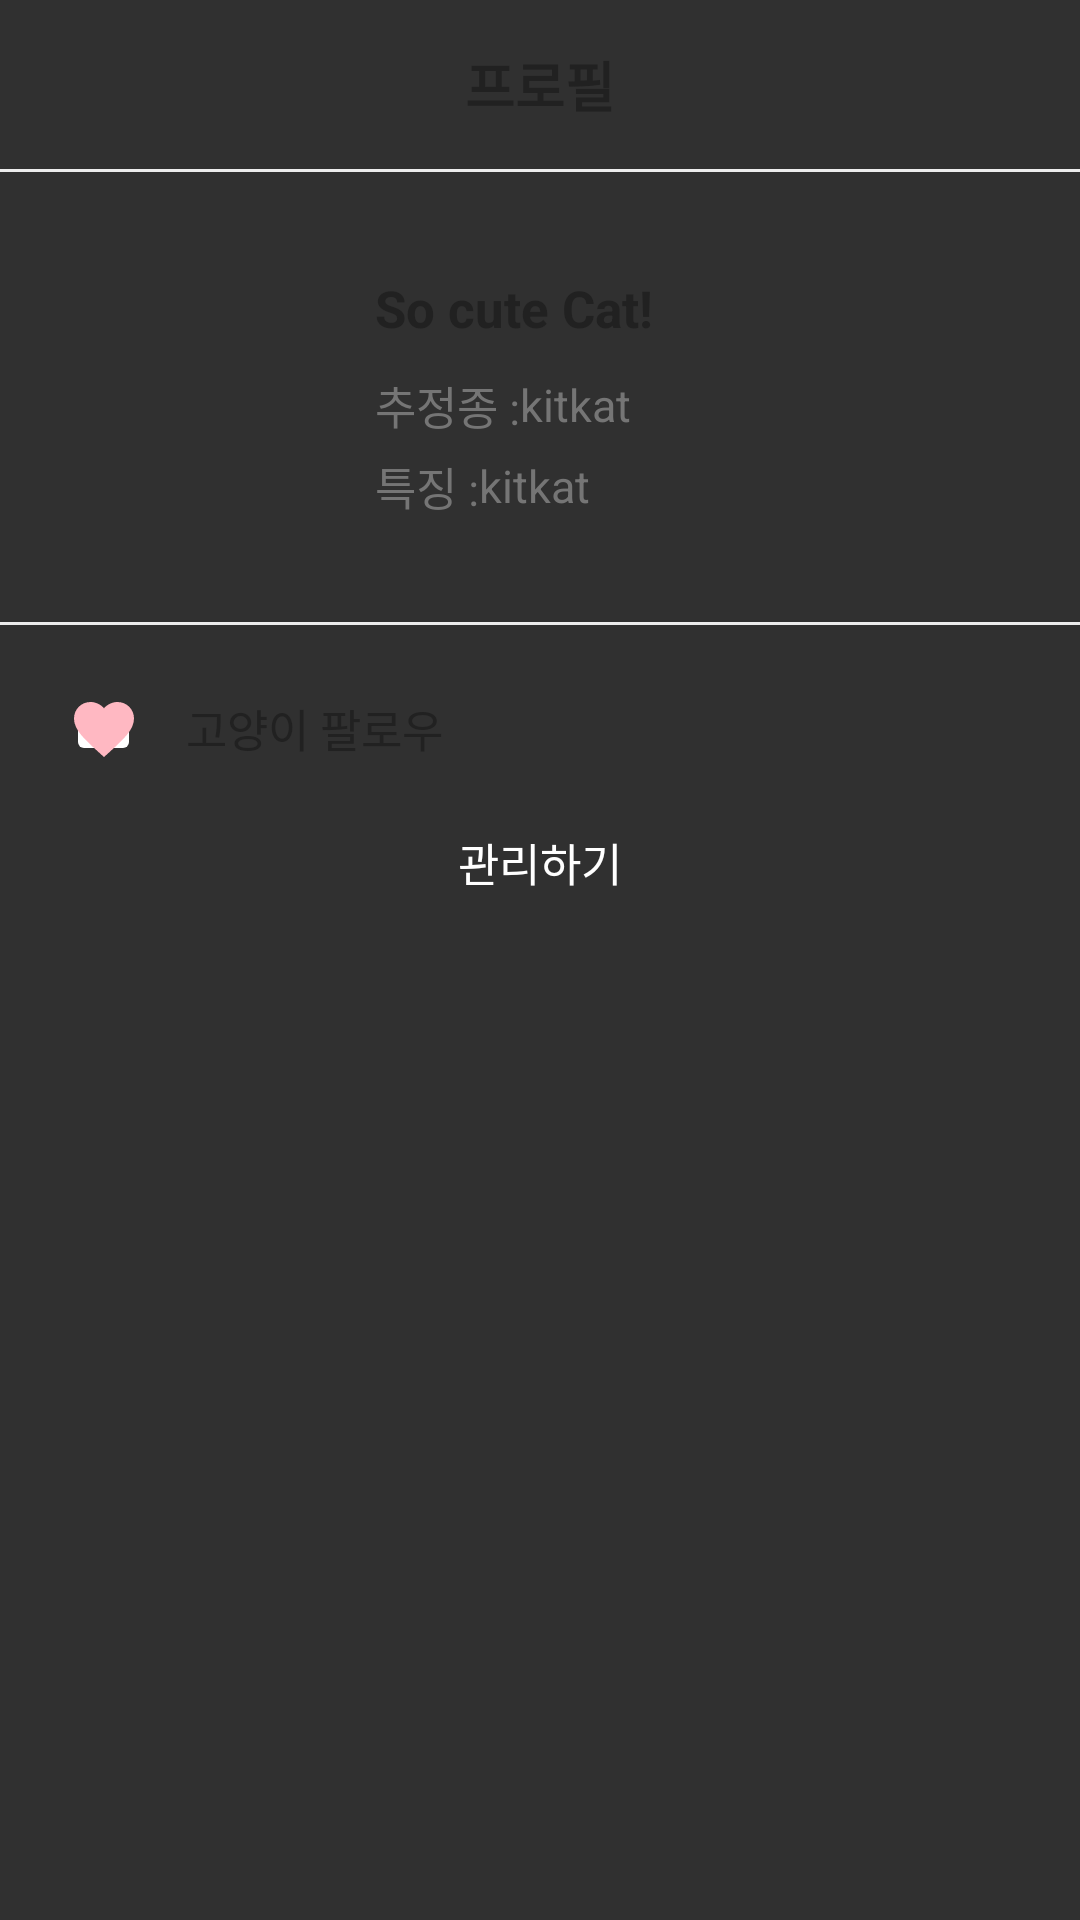

Named icons in this screenshot (1080 × 1920) and their bounding boxes, [x1=x1, y1=y1, x2=x2, y2=y2]:
favorite full: [x1=74, y1=702, x2=134, y2=757]
